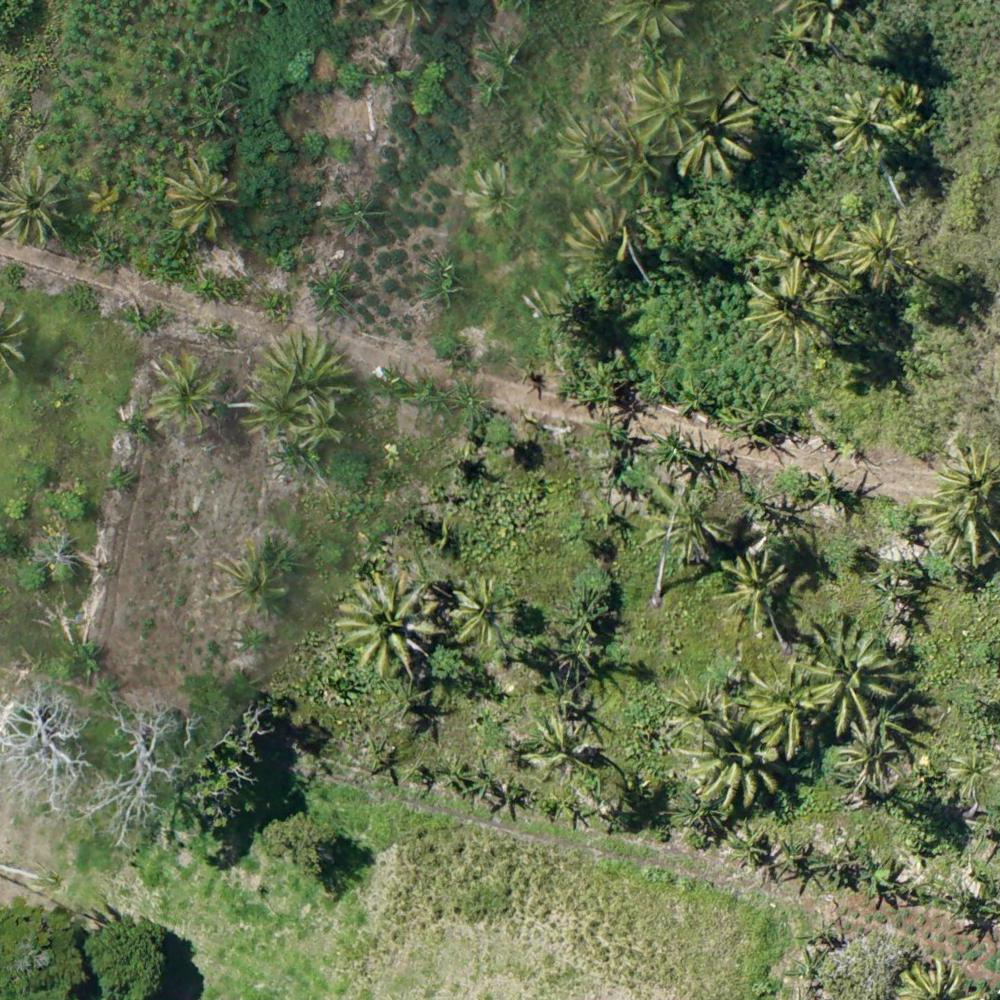Palm: (792, 623, 896, 724), (338, 573, 433, 669), (258, 331, 353, 423), (738, 264, 835, 351), (691, 717, 786, 805), (745, 664, 819, 755), (678, 95, 757, 180), (638, 480, 719, 562), (716, 551, 795, 632), (657, 675, 741, 751), (630, 64, 705, 149), (149, 352, 229, 430), (161, 161, 236, 238), (841, 215, 914, 292), (3, 172, 71, 249), (555, 111, 624, 184), (445, 576, 515, 643), (828, 89, 891, 158), (462, 155, 522, 221)
